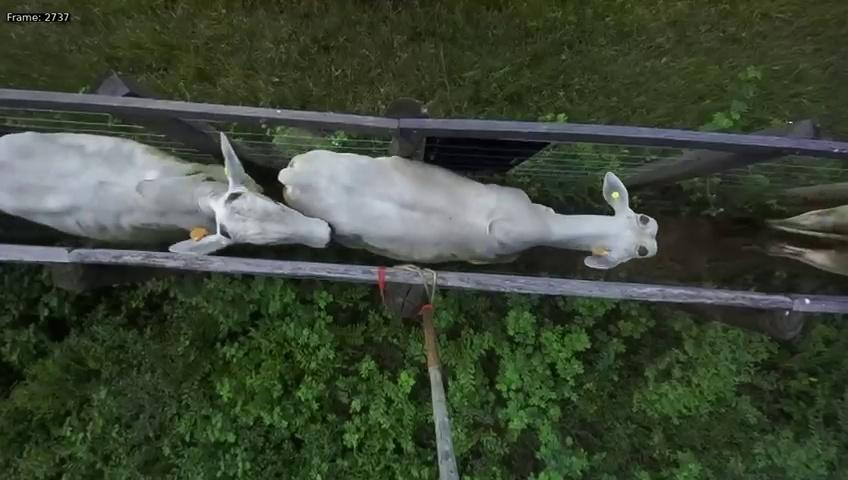cattle: (277, 117, 660, 273), (0, 120, 335, 266)
